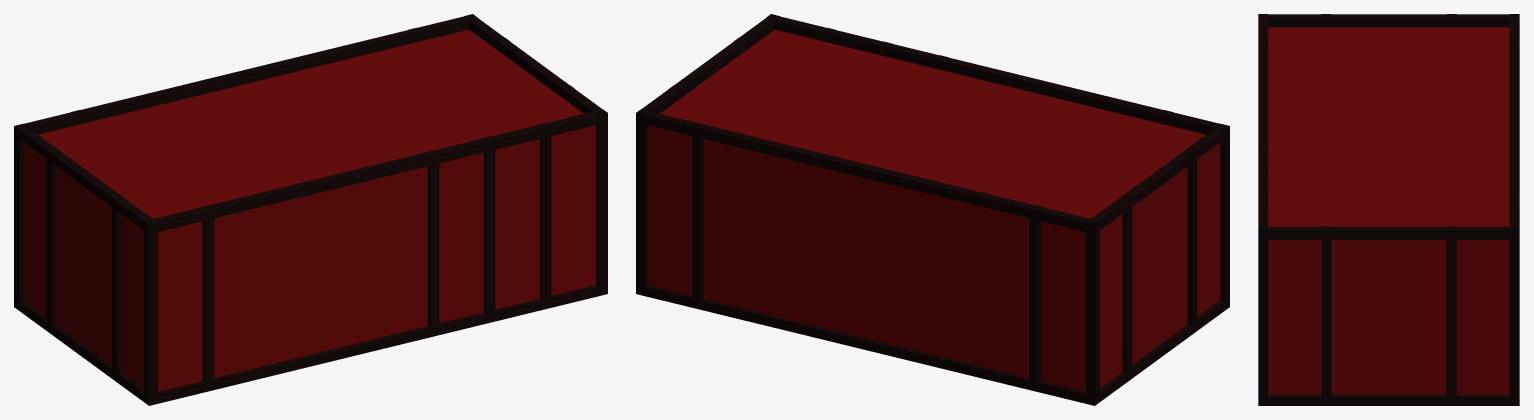
Rendered from BuildingA.fbx.
3 views of the same model, side by side, from view 1: azimuth 30°, elevation 25°; view 2: azimuth 150°, elevation 25°; view 3: azimuth 270°, elevation 25° (orthographic). The views are drawn at different scales.
Parts seen in each view (by area): view 1: BuildingA; view 2: BuildingA; view 3: BuildingA.
Boxes of the visible parts, x1=… form: BuildingA: x1=14, y1=14, x2=607, y2=405; BuildingA: x1=636, y1=14, x2=1229, y2=405; BuildingA: x1=1258, y1=14, x2=1519, y2=405.
Bounding box in the file's own units: 816 × 308 × 416.
